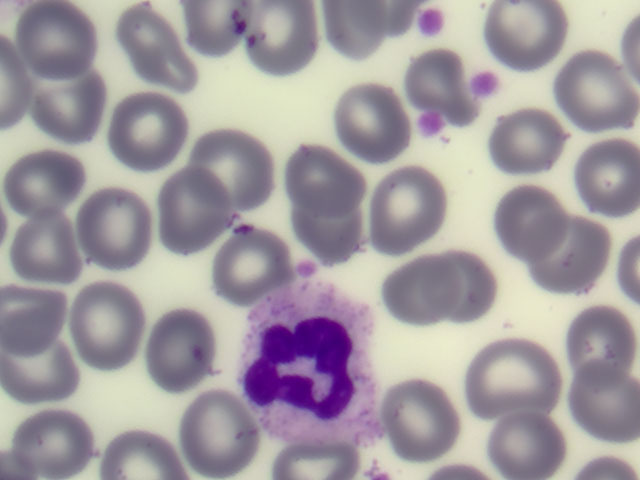Platelets: (420, 109, 446, 138), (419, 7, 443, 36), (474, 76, 497, 98)
RBC: (465, 339, 561, 416), (194, 129, 278, 216), (369, 170, 451, 251), (562, 48, 640, 131), (493, 178, 564, 265), (242, 1, 321, 78), (113, 7, 182, 93), (146, 308, 213, 394), (574, 367, 640, 450), (181, 396, 250, 472), (335, 83, 405, 157), (30, 61, 96, 139), (568, 312, 637, 386), (214, 232, 296, 294), (7, 410, 93, 469), (8, 151, 86, 215), (84, 191, 149, 267), (289, 148, 359, 218), (294, 193, 364, 262), (489, 110, 567, 171), (538, 221, 609, 288), (24, 2, 96, 68), (119, 99, 186, 169), (495, 411, 562, 480), (389, 383, 455, 453), (432, 249, 497, 317), (165, 175, 225, 248), (384, 262, 457, 322), (11, 214, 77, 279), (492, 1, 561, 62), (81, 288, 138, 361), (2, 342, 76, 396), (584, 143, 640, 213), (322, 1, 384, 61), (105, 432, 177, 480), (3, 287, 64, 341), (184, 1, 237, 58), (273, 443, 354, 480), (408, 53, 465, 101), (1, 33, 25, 129)
WBC: (247, 296, 372, 443)
